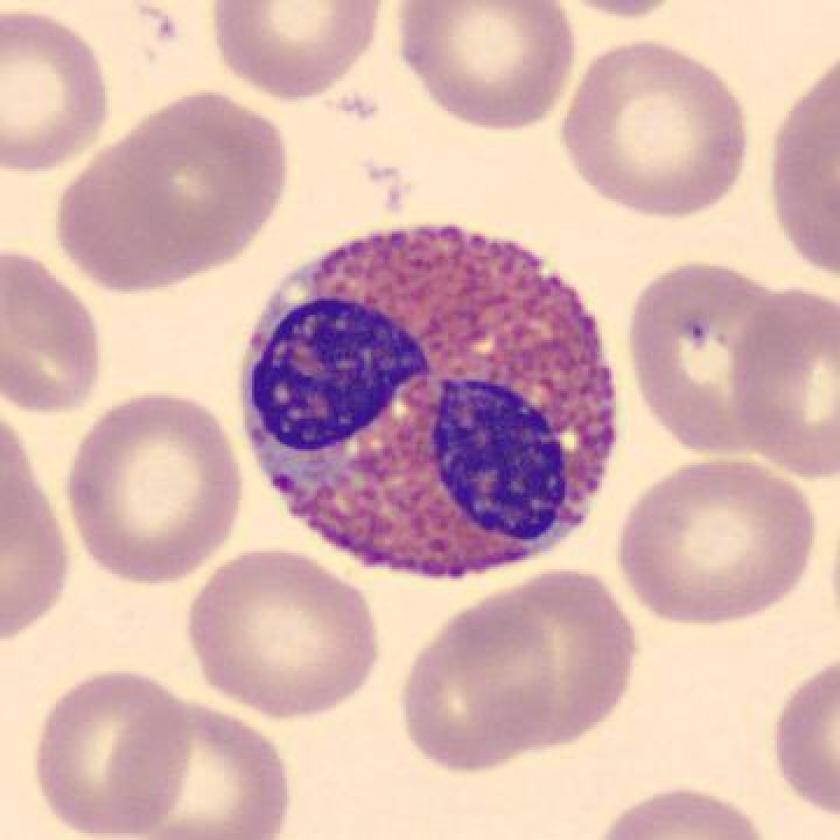eosinophil: (230, 209, 633, 589)
